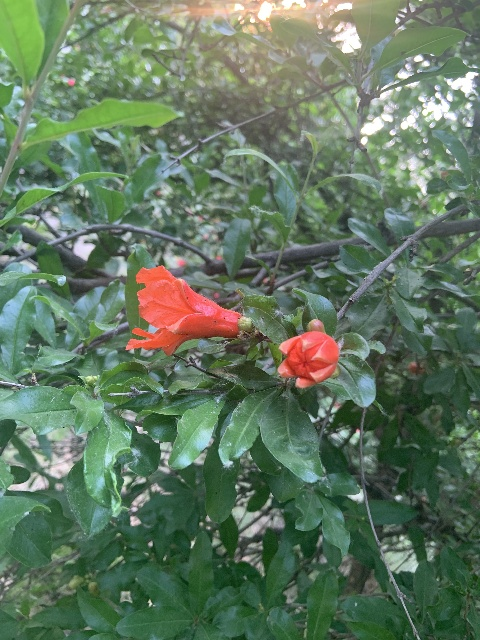bud: (306, 318, 326, 334), (237, 315, 254, 333)
flower: (127, 264, 242, 356), (276, 329, 340, 387)
